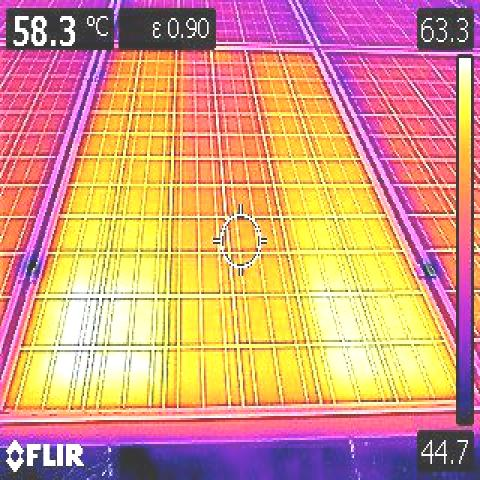fault: (242, 48, 474, 403), (3, 42, 181, 409)
